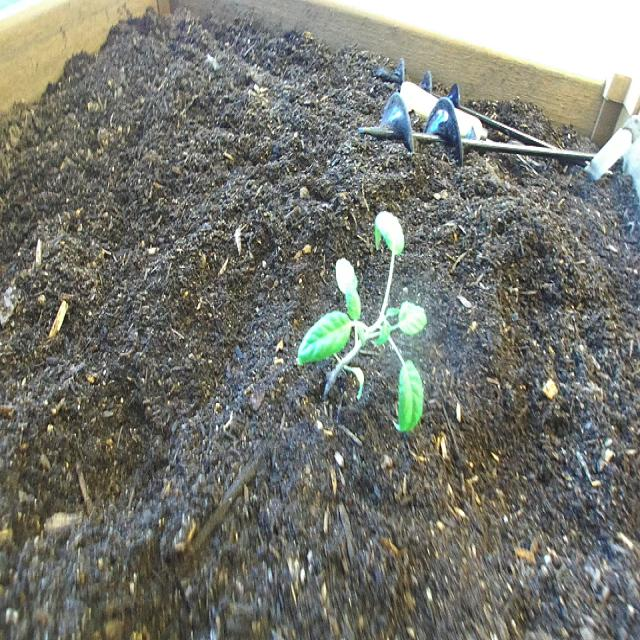Healthy: (288, 193, 442, 461)
